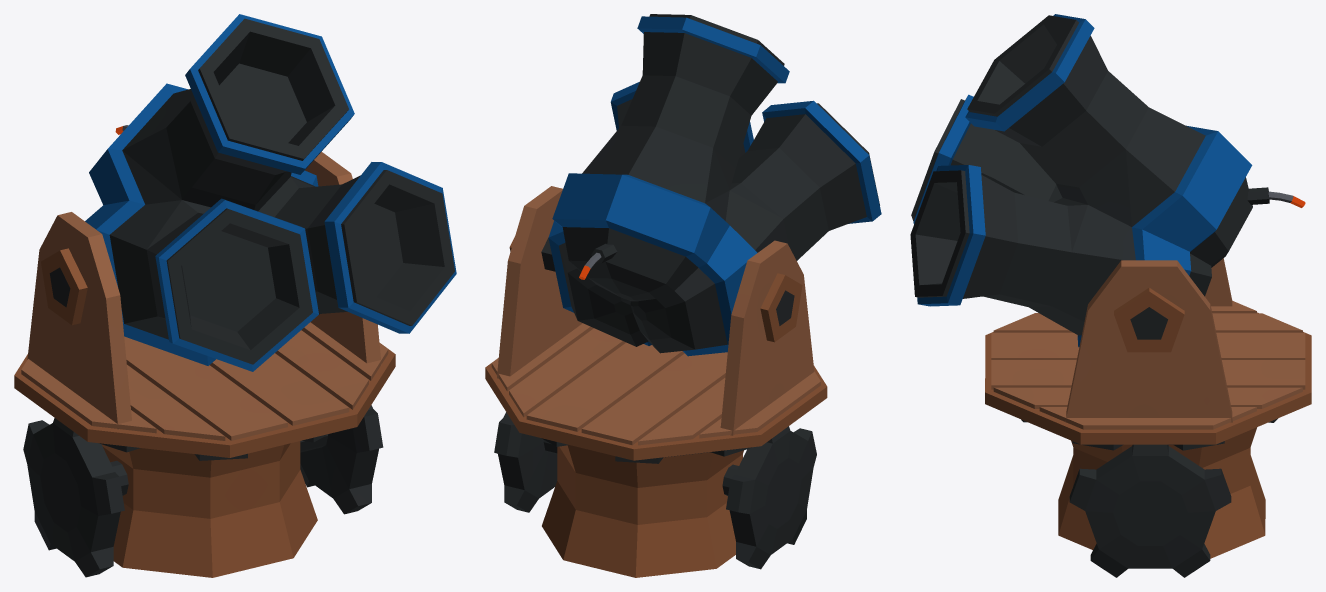
Rendered from cannon-3.glb.
3 views of the same model, side by side, from view 1: azimuth 30°, elevation 25°; view 2: azimuth 150°, elevation 25°; view 3: azimuth 270°, elevation 25° (orthographic). The views are drawn at different scales.
Visible parts, largest first — view 1: Rifle003; view 2: Rifle003; view 3: Rifle003.
Boxes of the visible parts, x1,y1,x2,y2 form: Rifle003: (14,14,456,577); Rifle003: (485,14,881,577); Rifle003: (910,14,1311,577).
Bounding box in the file's own units: 1.95 × 3.28 × 2.39.
2 materials, 2 textured.
